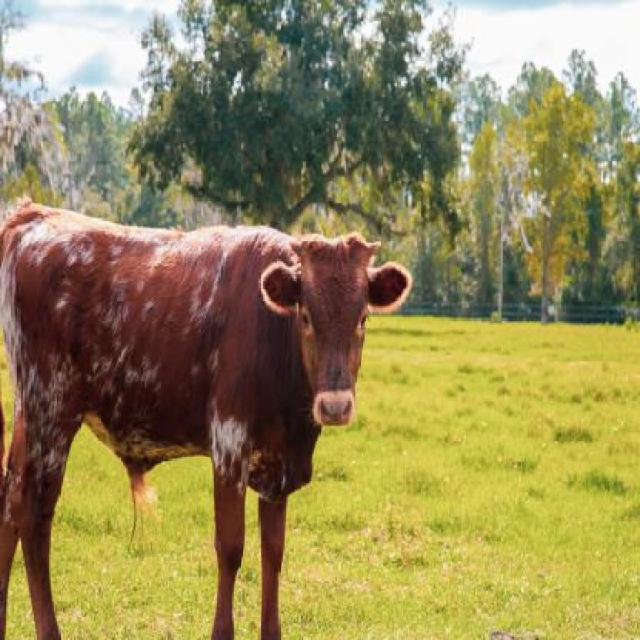Cow: (1, 196, 414, 638)
